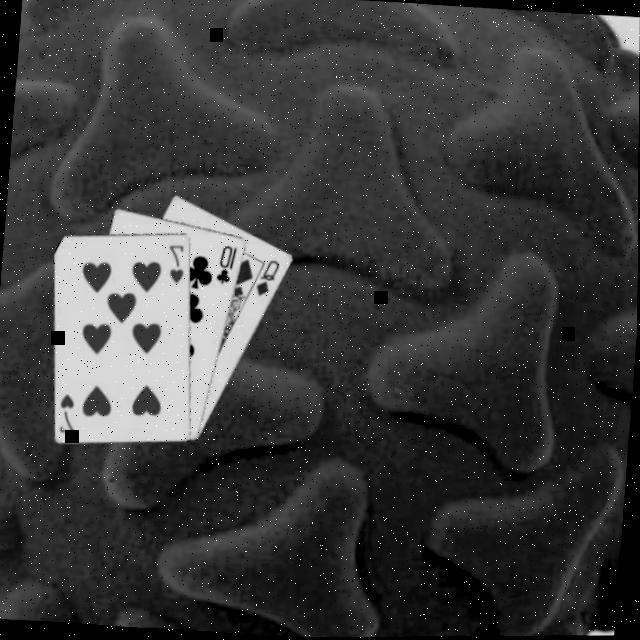10C: (215, 240, 242, 287)
7H: (165, 239, 190, 285), (57, 389, 82, 435)
QD: (254, 254, 285, 299)
